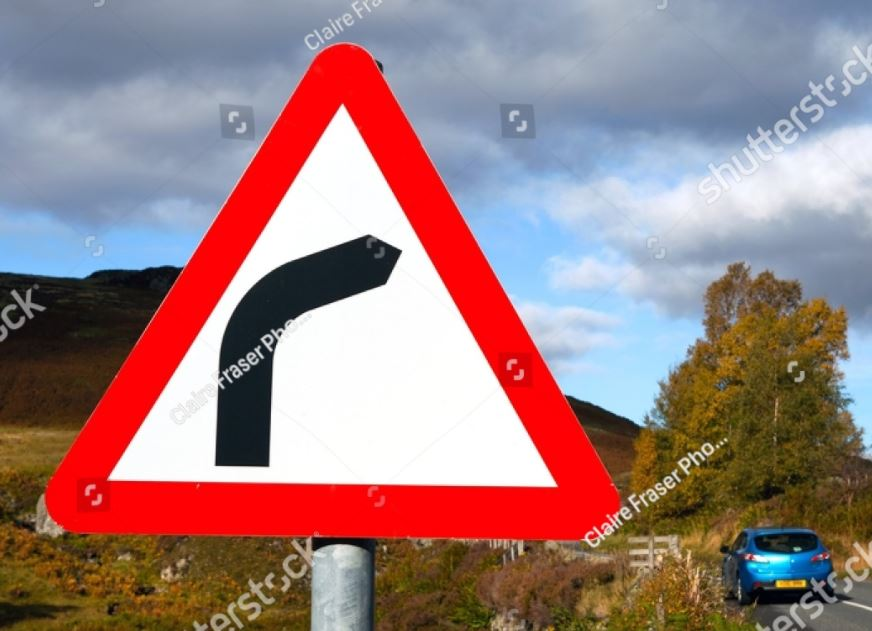Bend_to_right: (31, 39, 638, 557)
car: (714, 521, 844, 612)
